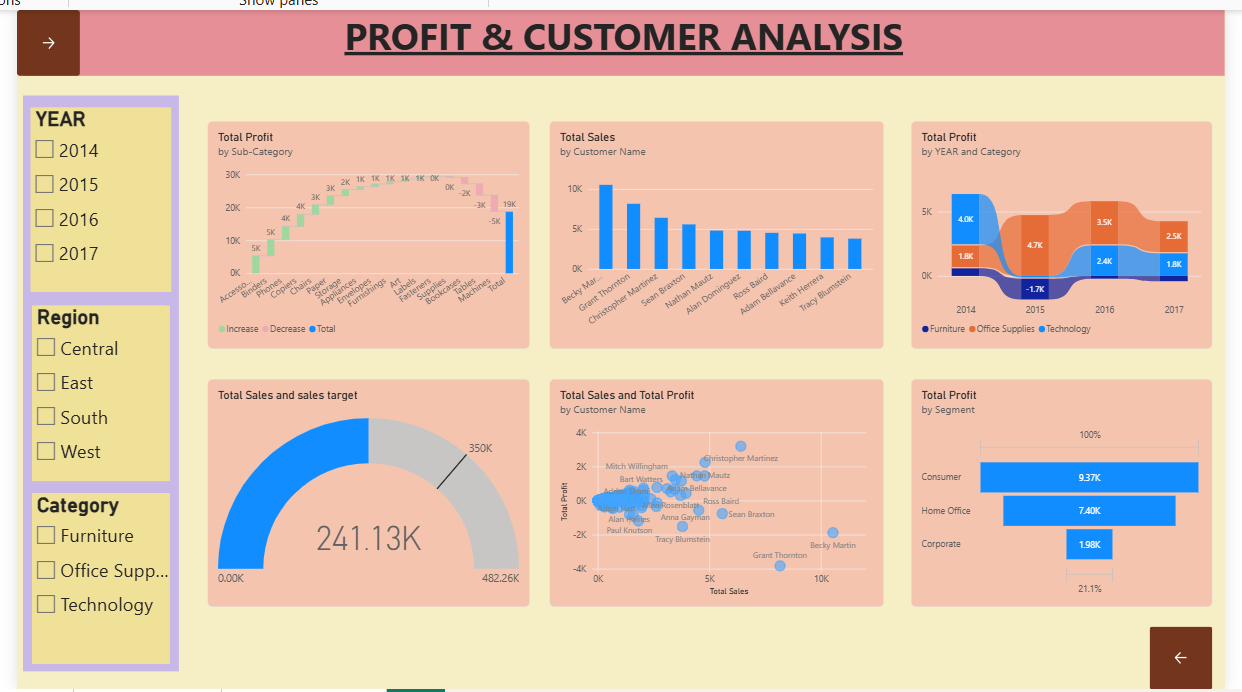

The dashboard page shown, as its layout file describes it:
{"tool":"powerbi","page":{"name":"Dashboard 2","canvas":[1920,1080],"ordinal":2},"visuals":[{"type":"textbox","box":[9.5,0,1911.1,105],"z":0},{"type":"gauge","fields":{"TargetValue":["Superstore.sales target"],"Y":["Superstore.Total Sales"]},"box":[303,586.9,513,362.7],"z":2},{"type":"clusteredColumnChart","fields":{"Category":["Superstore.Customer Name"],"Y":["Superstore.Total Sales"]},"box":[847,176.6,532.1,362.7],"z":3},{"type":"scatterChart","fields":{"Category":["Superstore.Customer Name"],"X":["Superstore.Total Sales"],"Y":["Superstore.Total Profit"]},"box":[847,586.9,532.1,362.7],"z":4},{"type":"ribbonChart","fields":{"Category":["DATE TABLE.YEAR"],"Series":["Superstore.Category"],"Y":["Superstore.Total Profit"]},"box":[1422,176.6,479.6,362.7],"z":5},{"type":"funnel","fields":{"Category":["Superstore.Segment"],"Y":["Superstore.Total Profit"]},"box":[1422,586.9,479.6,362.7],"z":6},{"type":"actionButton","box":[0,0,100.2,105],"z":7},{"type":"actionButton","box":[1801.4,980.6,100.2,100.2],"z":8},{"type":"textbox","box":[9.5,136,248.1,916.2],"z":9},{"type":"slicer","fields":{"Values":["DATE TABLE.YEAR"]},"box":[21.5,155.1,224.3,293.5],"z":10},{"type":"slicer","fields":{"Values":["Superstore.Region"]},"box":[23.9,470,219.5,279.2],"z":11},{"type":"slicer","fields":{"Values":["Superstore.Category"]},"box":[23.9,768.3,219.5,272],"z":12},{"type":"waterfallChart","fields":{"Category":["Superstore.Sub-Category"],"Y":["Superstore.Total Profit"]},"box":[303,176.6,513,362.7],"z":13}]}

Visuals, with their boxes on the page's 1920x1080 design canvas (x1, y1, x2, y2). These are canvas units, not pixel positions in the 1242x692 screenshot, which may show the page scaled, cropped or inside an application window:
textbox: [10,0,1921,105]
gauge - Superstore.sales target x Superstore.Total Sales: [303,587,816,950]
clusteredColumnChart - Superstore.Customer Name x Superstore.Total Sales: [847,177,1379,539]
scatterChart - Superstore.Customer Name x Superstore.Total Sales: [847,587,1379,950]
ribbonChart - DATE TABLE.YEAR x Superstore.Category: [1422,177,1902,539]
funnel - Superstore.Segment x Superstore.Total Profit: [1422,587,1902,950]
actionButton: [0,0,100,105]
actionButton: [1801,981,1902,1081]
textbox: [10,136,258,1052]
slicer - DATE TABLE.YEAR: [22,155,246,449]
slicer - Superstore.Region: [24,470,243,749]
slicer - Superstore.Category: [24,768,243,1040]
waterfallChart - Superstore.Sub-Category x Superstore.Total Profit: [303,177,816,539]
